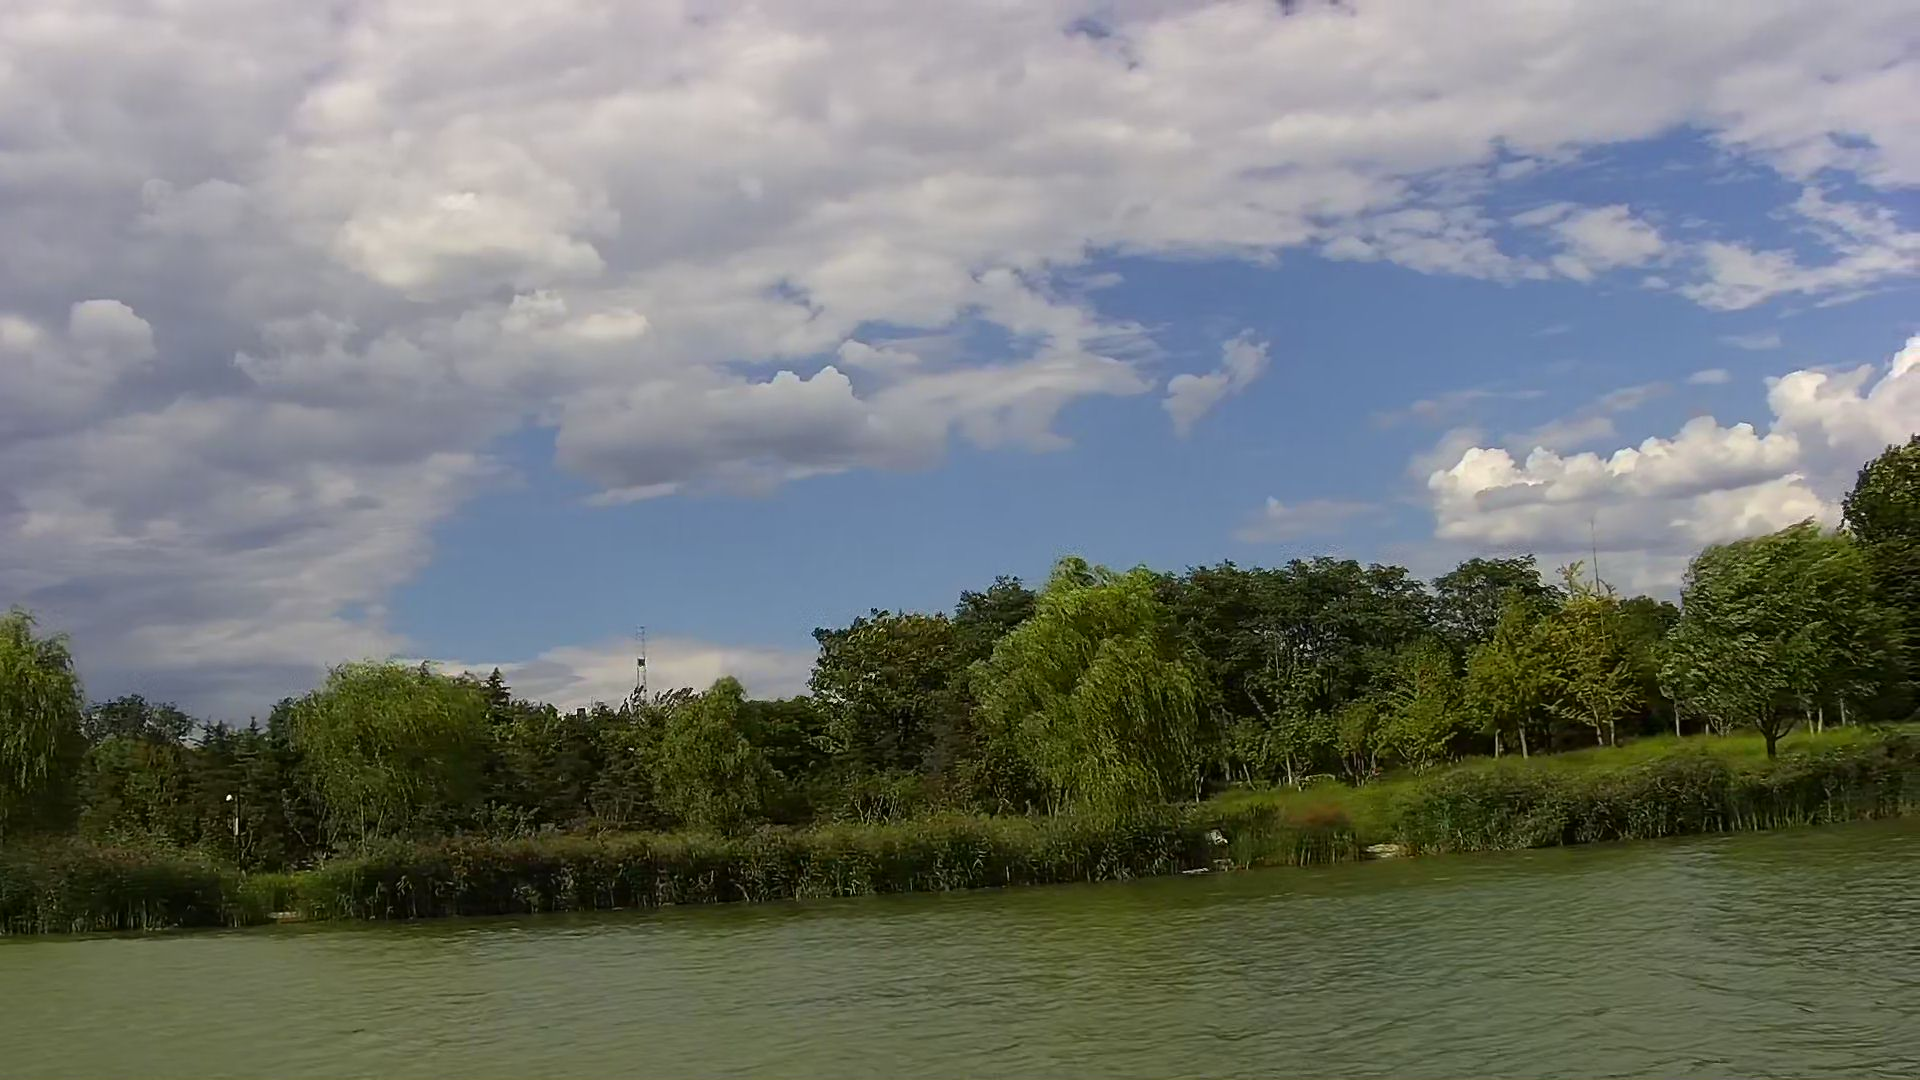rock: (1361, 844, 1407, 864)
